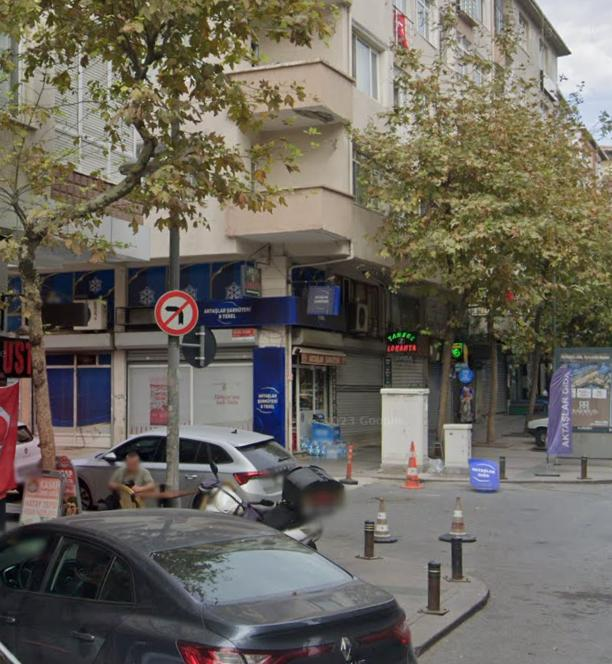leftturnsareforbidden: (155, 292, 198, 333)
